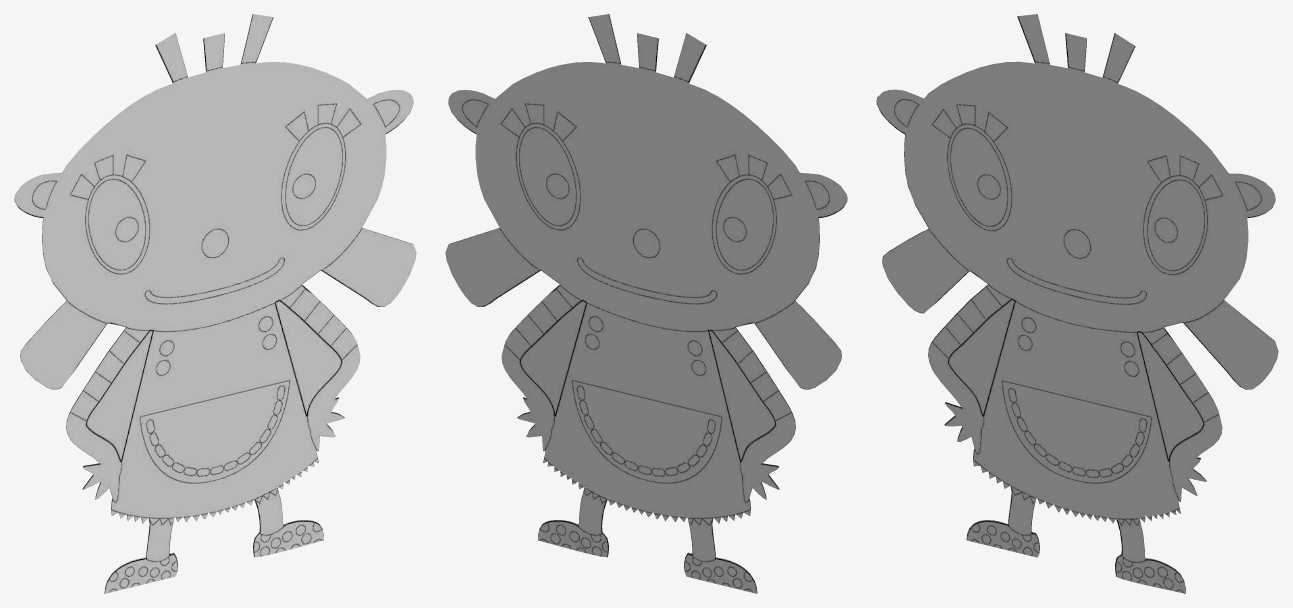
Rendered from 41_nagle_fix.fbx.
3 renders of one model, left to right at view 1: azimuth 30°, elevation 25°; view 2: azimuth 150°, elevation 25°; view 3: azimuth 330°, elevation 25°, orthographic.
Visible parts, largest first — view 1: planarTrimmedSurface36; view 2: planarTrimmedSurface36; view 3: planarTrimmedSurface36.
Part boxes in pixels (<box>): planarTrimmedSurface36: <box>14,14,416,593</box>; planarTrimmedSurface36: <box>445,14,847,593</box>; planarTrimmedSurface36: <box>876,14,1278,593</box>.
Size of the model in its own units: 9.63 by 12.47 by 2.03e-06.
Materials: 1 (1 with a texture image).
